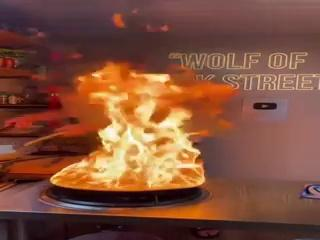Fire: (44, 52, 216, 193)
